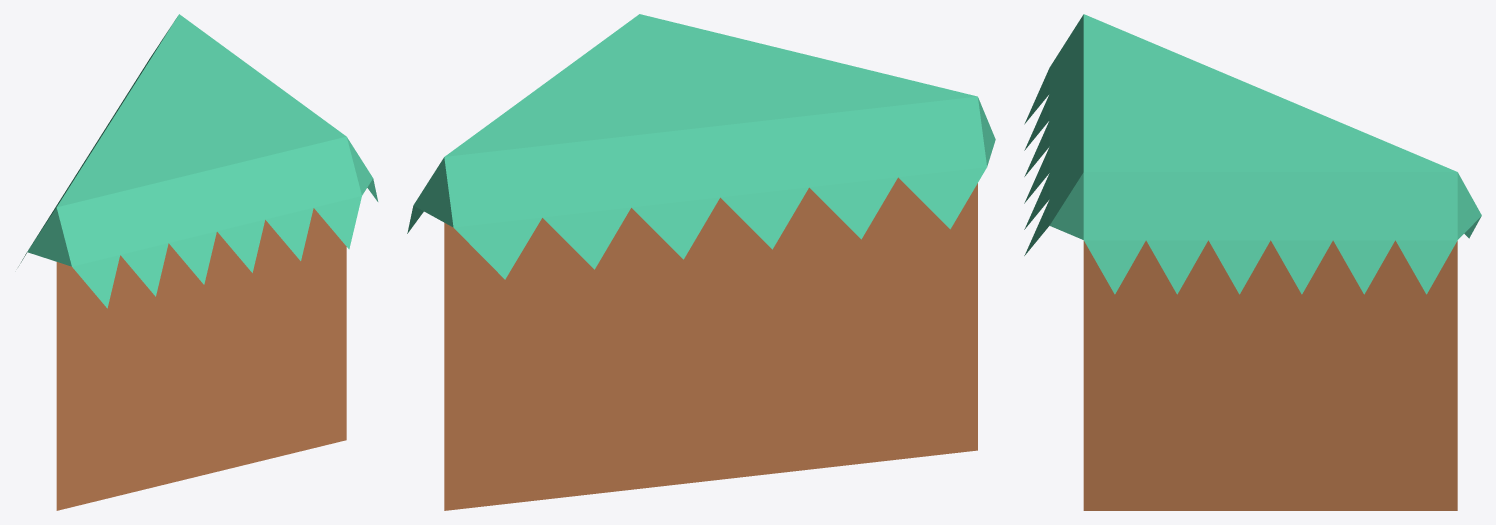
Rendered from Tile_Tri.fbx.
3 views of the same model, side by side, from view 1: azimuth 30°, elevation 25°; view 2: azimuth 150°, elevation 25°; view 3: azimuth 270°, elevation 25° (orthographic). The views are drawn at different scales.
Visible parts, largest first — view 1: blockCornerLarge; view 2: blockCornerLarge; view 3: blockCornerLarge.
Part boxes in pixels (bbox=[...]): blockCornerLarge: bbox=[18, 14, 378, 510]; blockCornerLarge: bbox=[407, 14, 995, 510]; blockCornerLarge: bbox=[1024, 14, 1481, 510].
Size of the model in its own units: 48.12 by 48.2 by 39.37.
